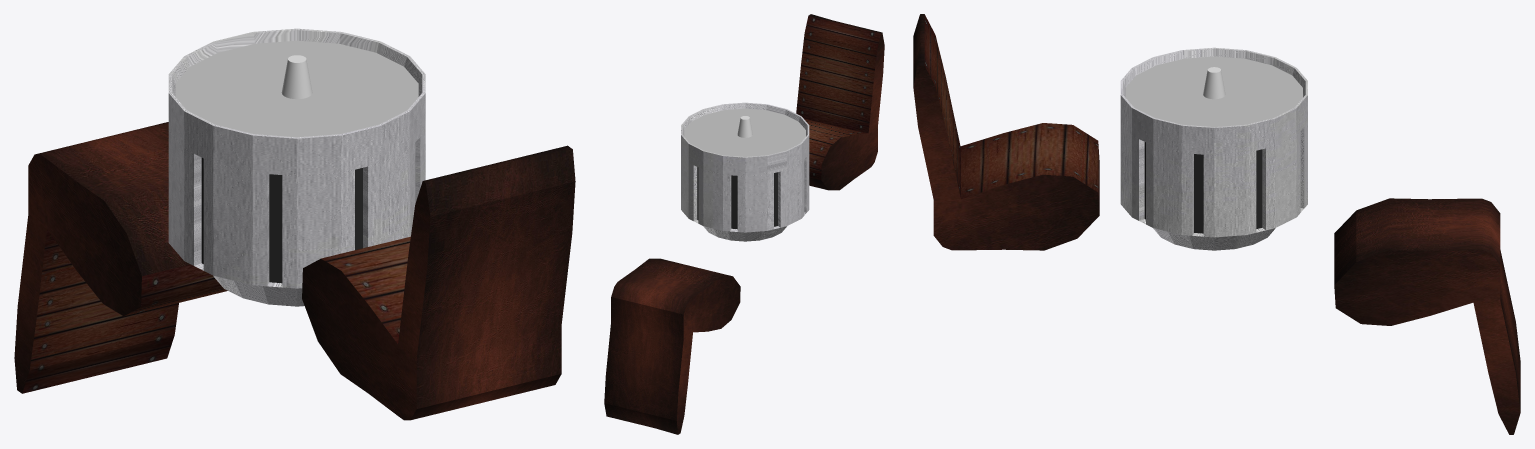
Rendered from table.FBX.
The picture shows the model from 3 angles, left to right: view 1: azimuth 30°, elevation 25°; view 2: azimuth 150°, elevation 25°; view 3: azimuth 270°, elevation 25°; orthographic projection. The views are drawn at different scales.
Parts seen in each view (by area): view 1: Cylinder001, Box001, Box003, Cone001; view 2: Box003, Cylinder001, Box001, Cone001; view 3: Cylinder001, Box001, Box003, Cone001.
Part boxes in pixels (x1,y1,x2,y2): Cylinder001: [168, 28, 425, 306]; Box001: [302, 145, 575, 420]; Box003: [14, 122, 227, 393]; Cone001: [281, 55, 312, 99]; Box003: [604, 258, 740, 434]; Cylinder001: [681, 102, 809, 241]; Box001: [796, 14, 884, 190]; Cone001: [737, 116, 752, 137]; Cylinder001: [1120, 47, 1307, 250]; Box001: [913, 14, 1099, 250]; Box003: [1334, 198, 1520, 434]; Cone001: [1203, 67, 1225, 99].
Bounding box in the file's own units: 42.16 × 90.26 × 134.
4 materials, 2 textured.
